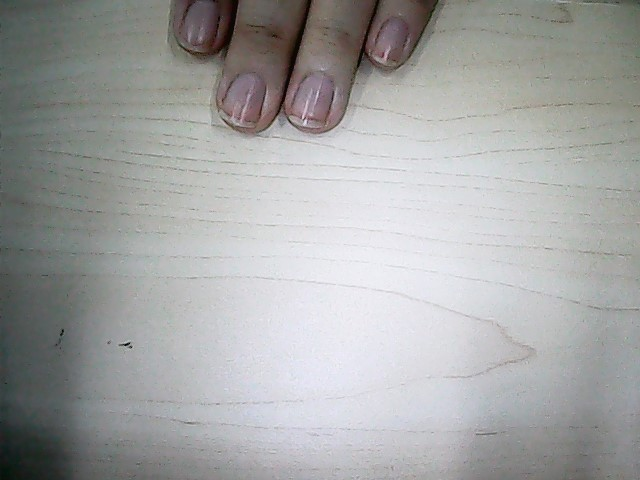nail: (290, 75, 331, 128), (223, 73, 259, 128), (185, 1, 217, 53), (377, 21, 405, 68)
